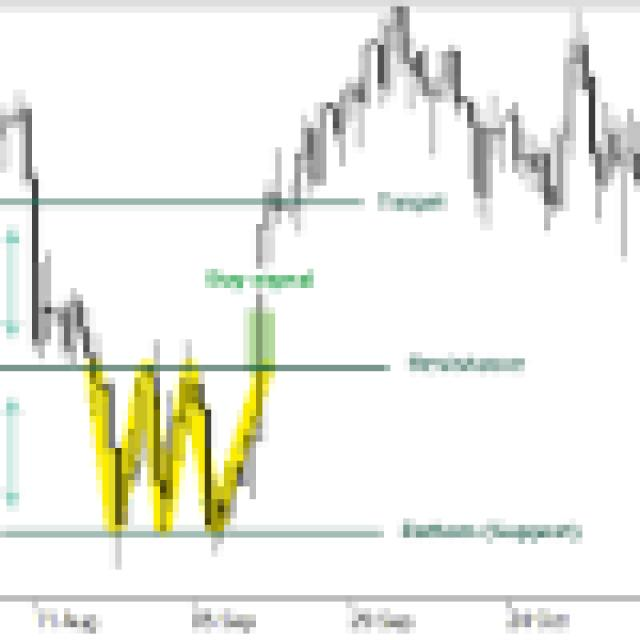oco_inv: (30, 181, 320, 589)
